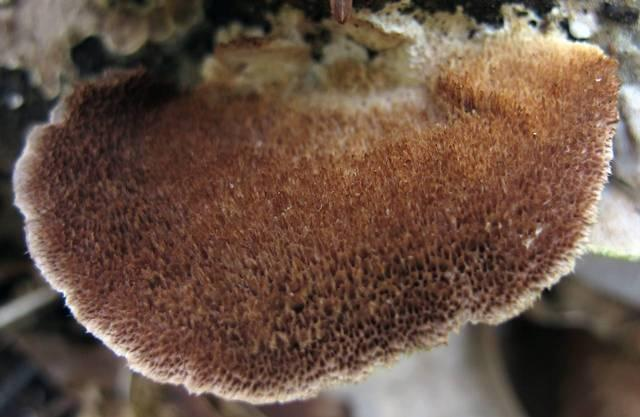Non-edible Mushroom: (11, 23, 622, 406)
